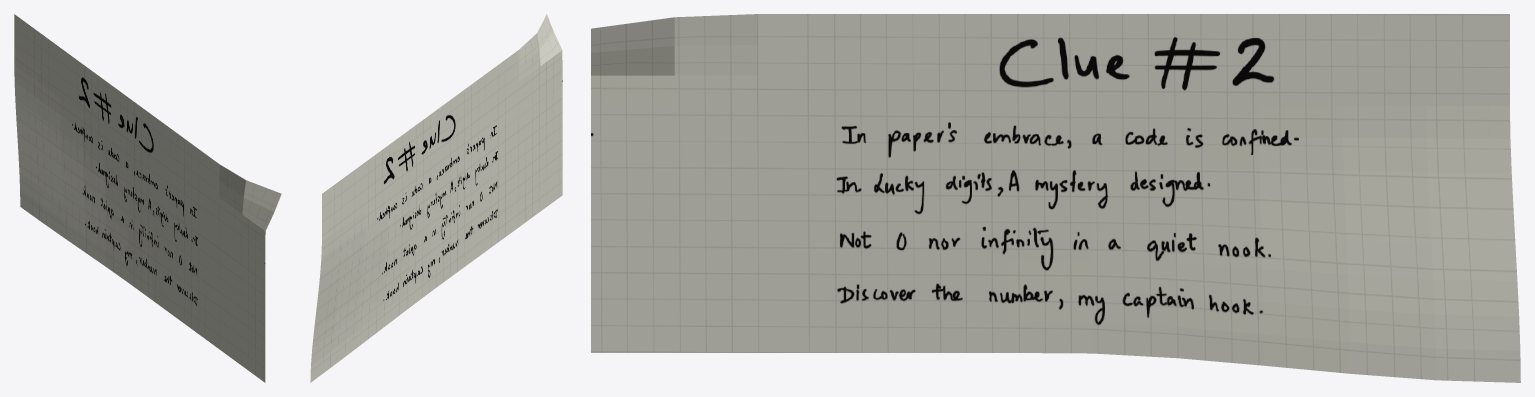
The model's file is Clue2.fbx.
3 renders of one model, left to right at view 1: azimuth 30°, elevation 25°; view 2: azimuth 150°, elevation 25°; view 3: azimuth 270°, elevation 25°, orthographic. The views are drawn at different scales.
Visible parts, largest first — view 1: Paper; view 2: Paper; view 3: Paper.
Boxes of the visible parts, x1,y1,x2,y2 form: Paper: (14, 14, 281, 382); Paper: (310, 14, 562, 382); Paper: (591, 14, 1520, 382).
Bounding box in the file's own units: 24.62 × 283 × 661.
1 material, 1 textured.
